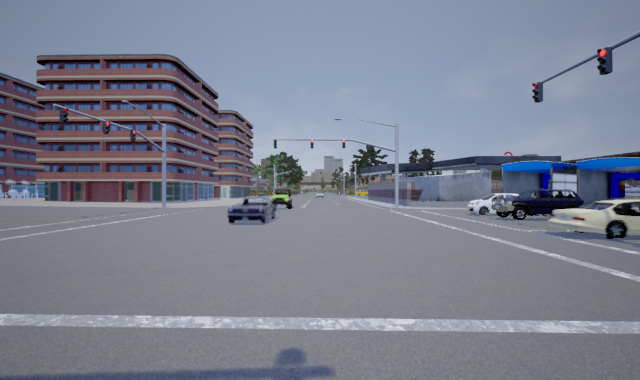traffic_light: (596, 45, 614, 75), (531, 80, 543, 102), (59, 106, 69, 125), (103, 117, 111, 136), (130, 126, 136, 144), (341, 138, 346, 150), (310, 139, 315, 151)
vehicle: (546, 198, 639, 239), (494, 187, 588, 220), (466, 193, 530, 216), (226, 196, 278, 224), (267, 188, 293, 210)
